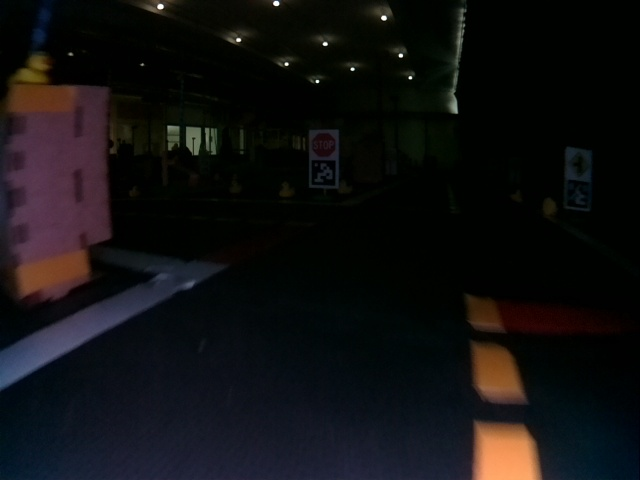Duckie: (13, 52, 49, 84), (542, 199, 557, 214), (278, 182, 292, 198), (339, 181, 351, 194), (510, 191, 522, 203), (230, 181, 241, 192), (129, 186, 139, 196)
Intersection sign: (568, 150, 592, 178)
QR code: (564, 180, 590, 208), (310, 160, 337, 186)
Stop sign: (311, 132, 337, 156)
